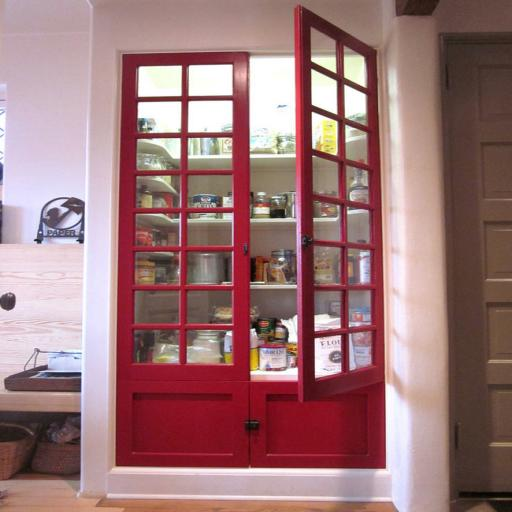Door: (444, 40, 512, 494)
